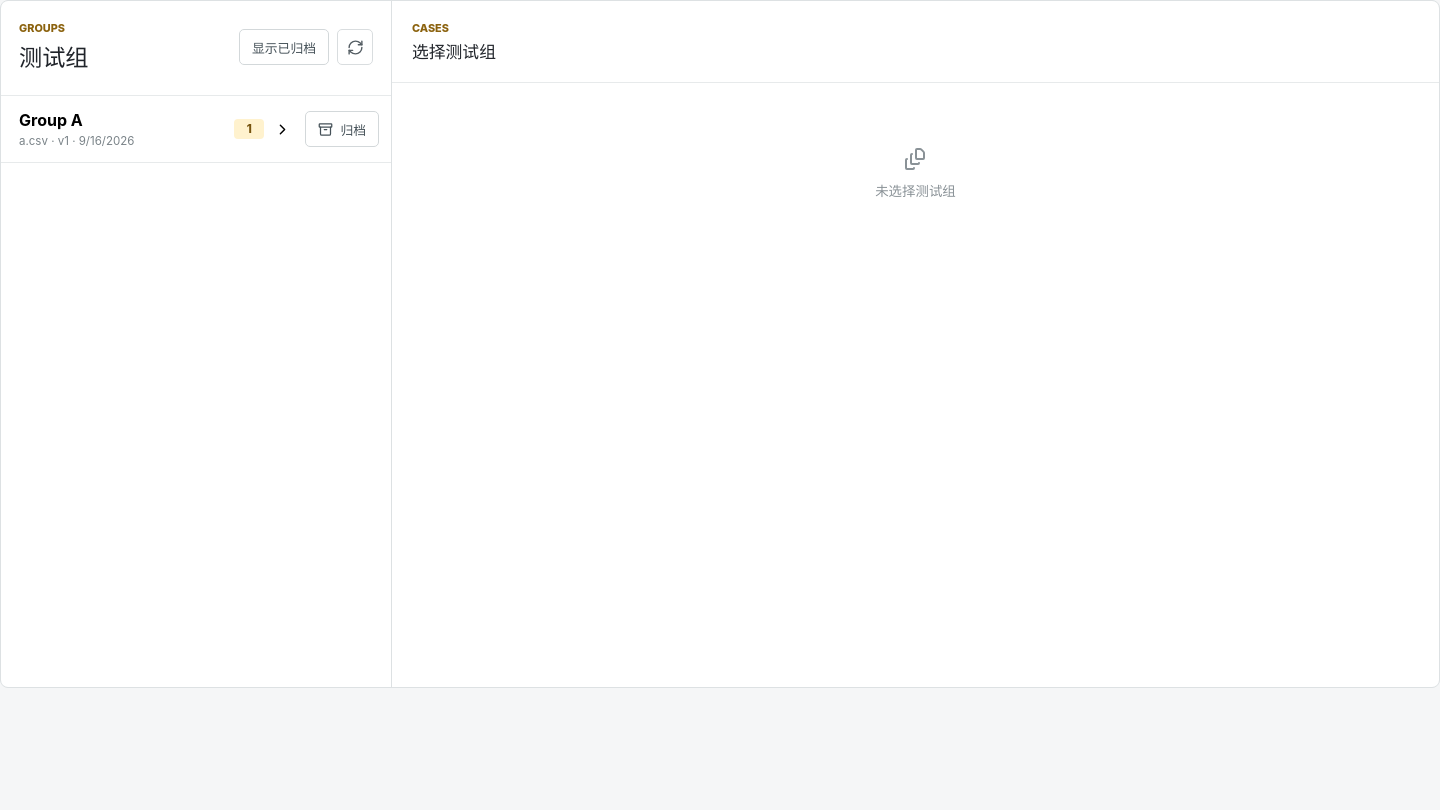
it: asks before retiring a group and says what archiving keeps
Click the button with aria-label "归档 Group A". click: (342, 129)
box: [305,111,379,147]
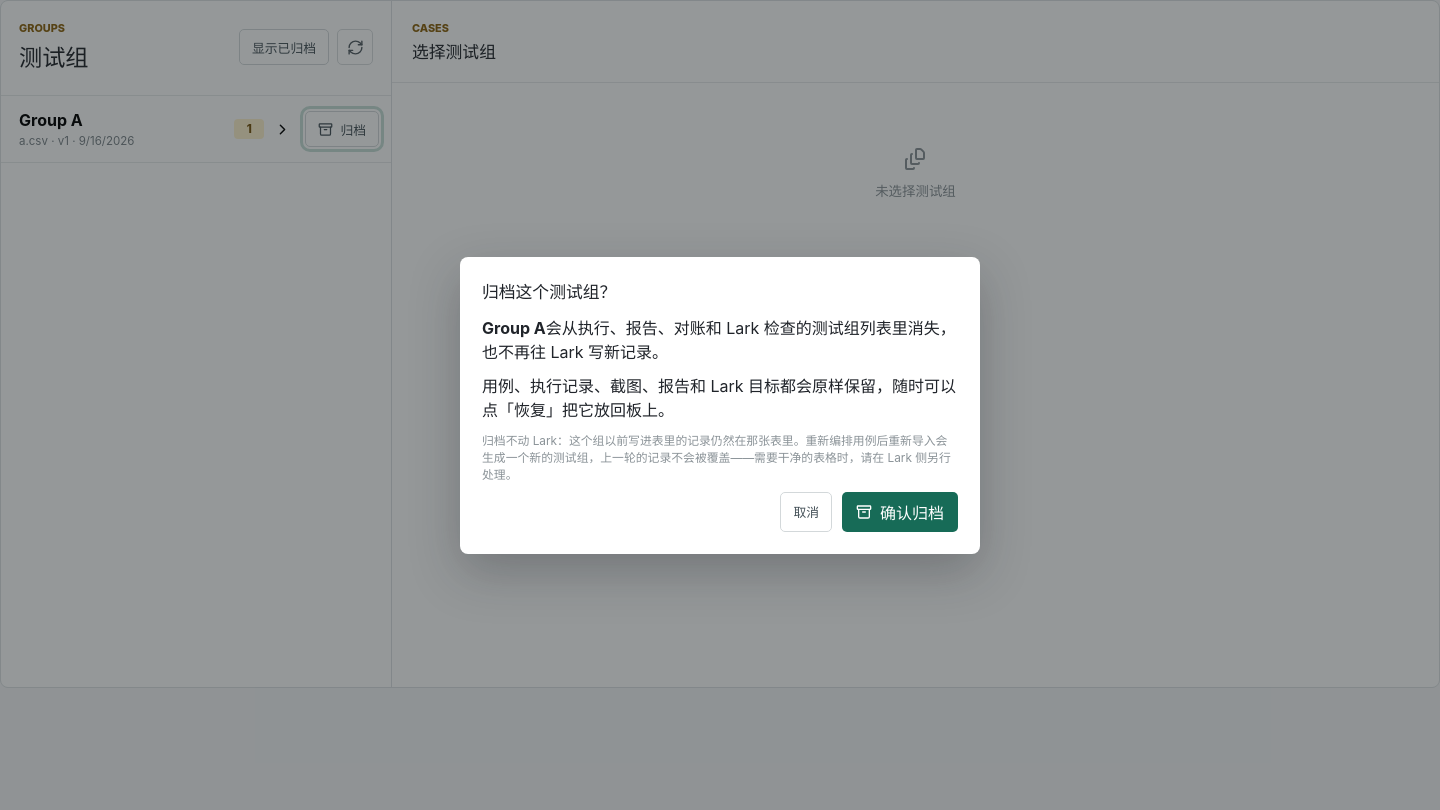
Result: the dialog shows "归档这个测试组？" at [482,282,616,302]
Result: the dialog shows "随时可以点「恢复」" at [482,376,956,420]
Result: the dialog shows "归档不动 Lark" at [482,434,951,482]
Click the button "确认归档". click: (900, 512)
box: [842,492,958,532]
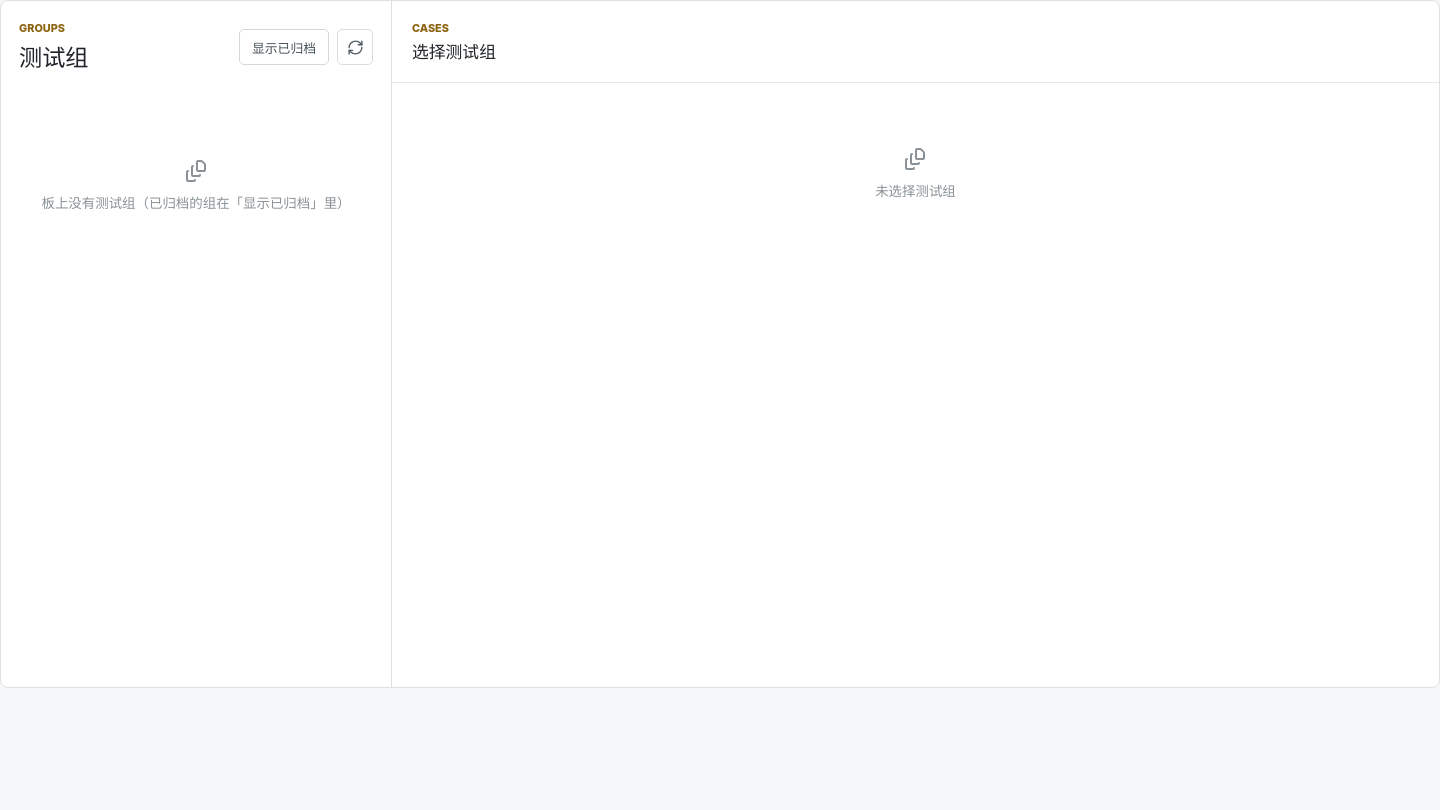
Result: the text "板上没有测试组（已归档的组在「显示已归档」里）" is shown at [42,192,351,212]
